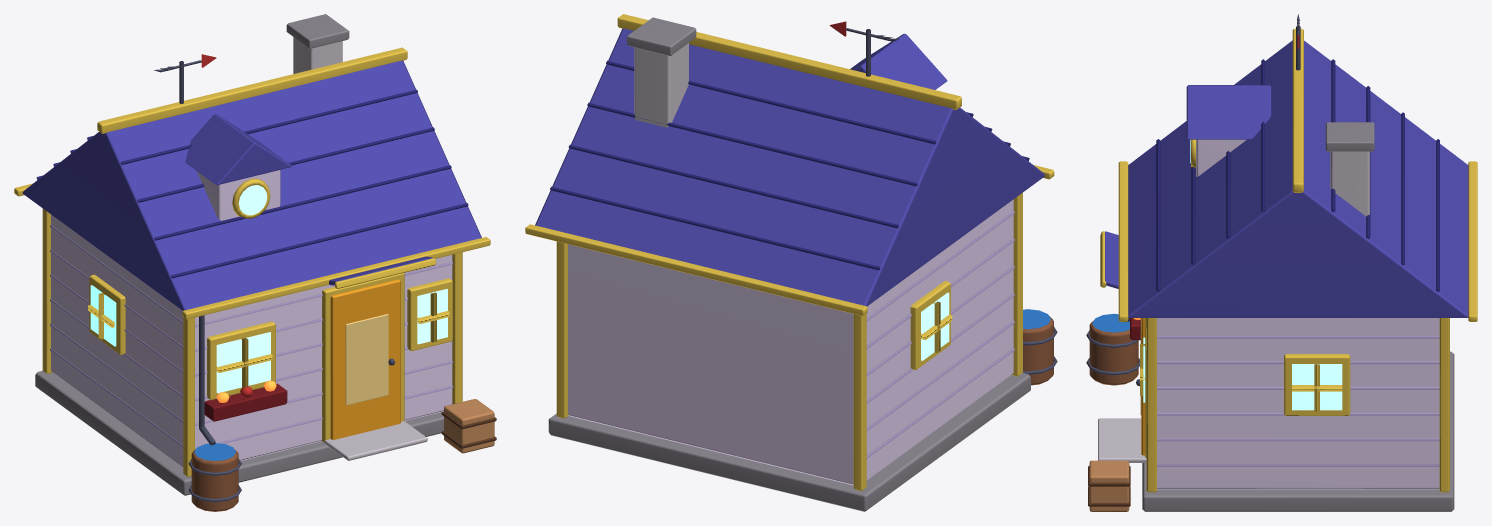
File: house_junction_b.glb
3 renders of one model, left to right at view 1: azimuth 30°, elevation 25°; view 2: azimuth 150°, elevation 25°; view 3: azimuth 270°, elevation 25°, orthographic. The views are drawn at different scales.
Parts seen in each view (by area): view 1: House, Yard; view 2: House, Yard; view 3: House, Yard.
Part boxes in pixels (bbox=[...]): House: bbox=[14, 14, 490, 495]; Yard: bbox=[188, 315, 496, 511]; House: bbox=[525, 14, 1054, 511]; Yard: bbox=[1023, 309, 1057, 385]; House: bbox=[1098, 14, 1477, 511]; Yard: bbox=[1086, 313, 1139, 511].
Size of the model in its own units: 3.9 by 4.44 by 4.14.
